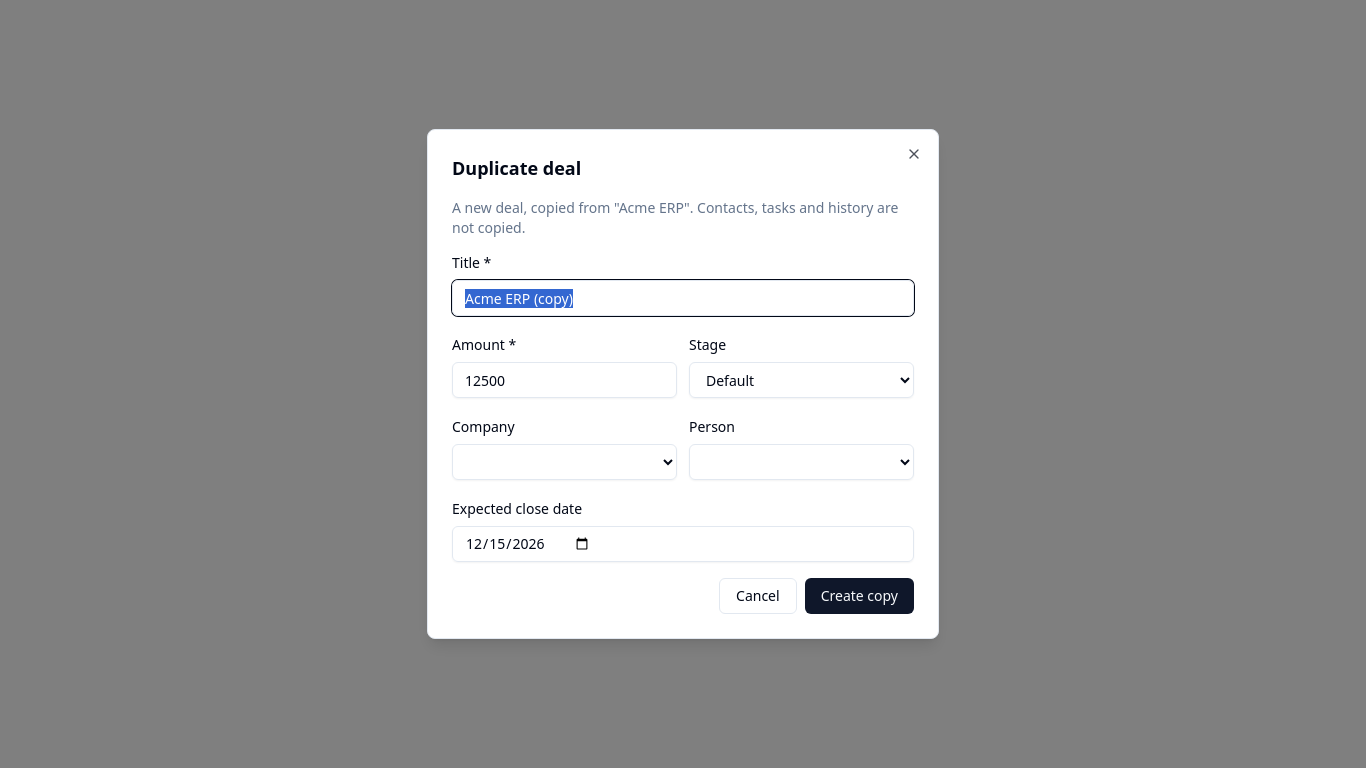
Test: DuplicateDealDialog › will not create a copy with no title
The image size is (1366, 768).
Clear the field labelled "Title *" at (683, 298), box [452,280,914,316]
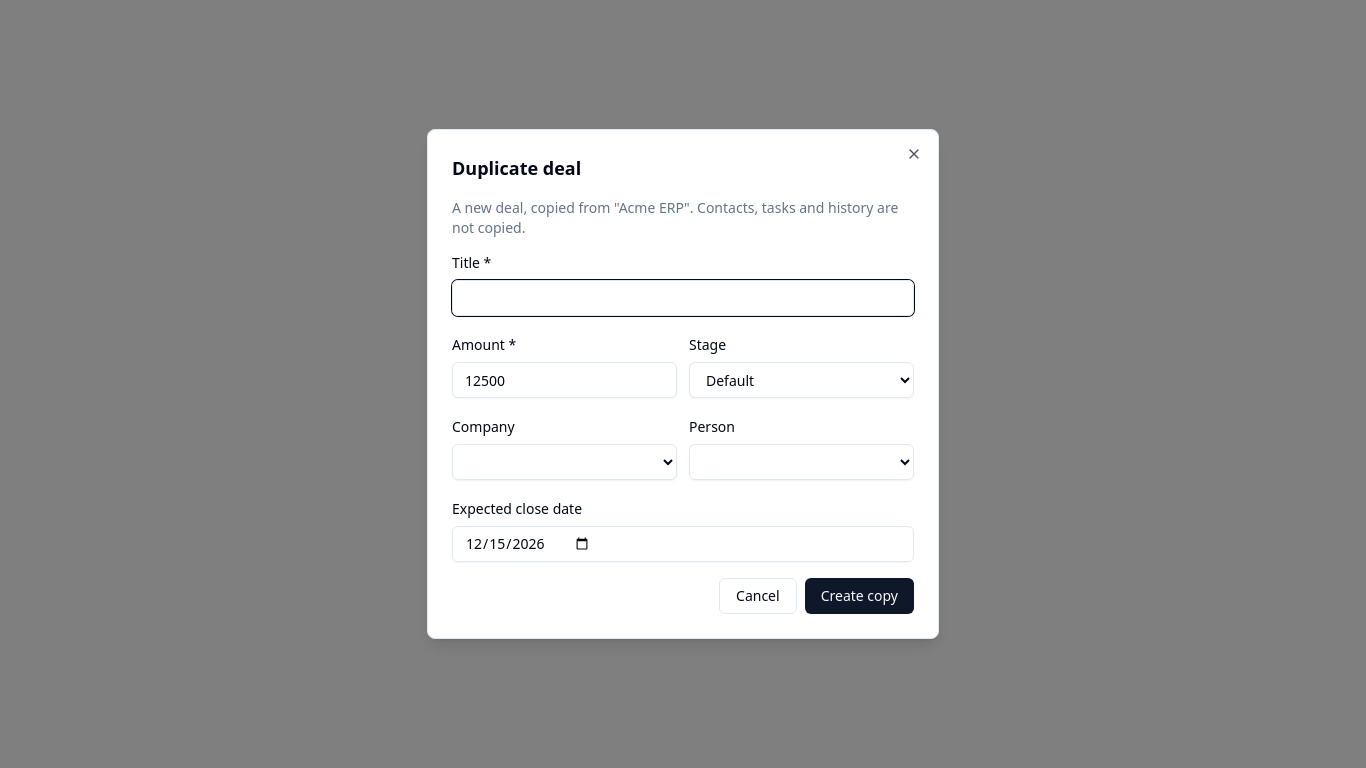
Click the button "Create copy" at (859, 596), box [805,578,914,614]
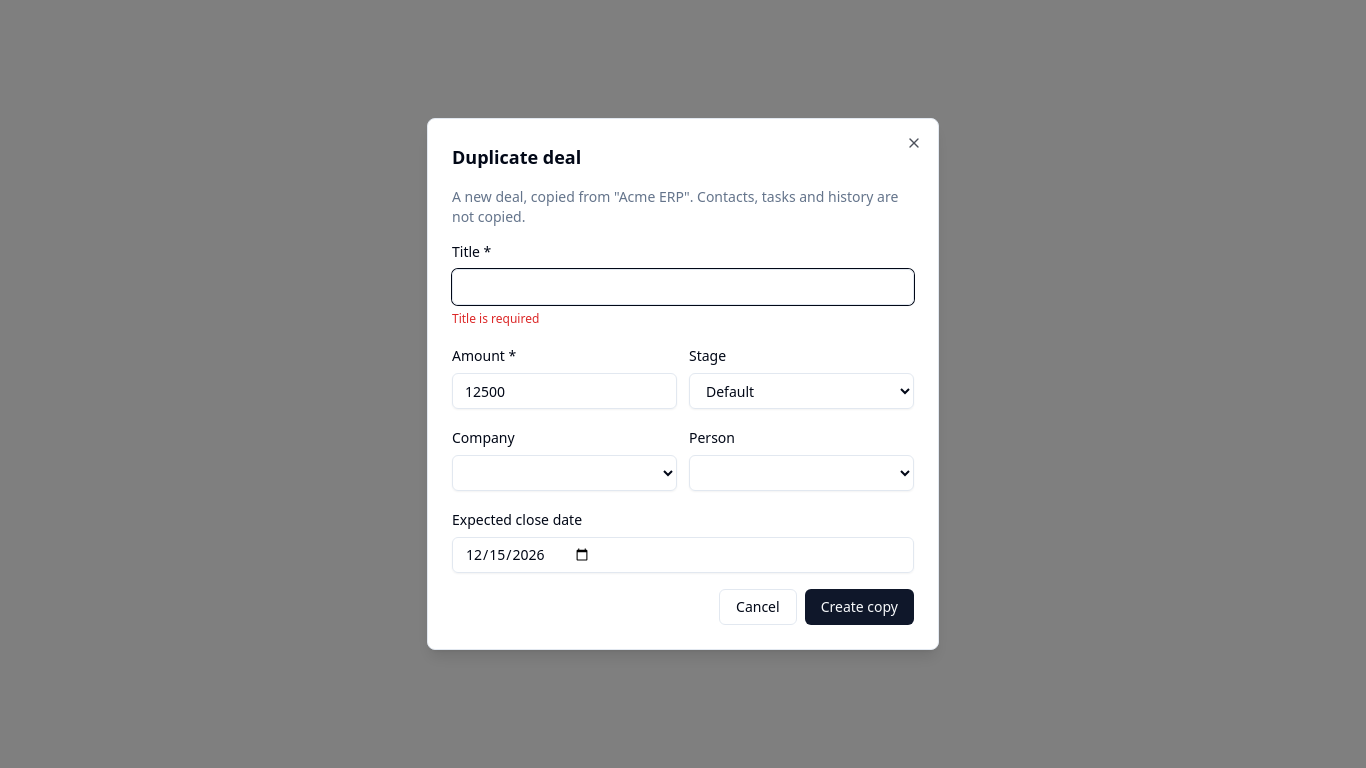
Check: the text "Title is required" is shown, box [452,310,539,327]
